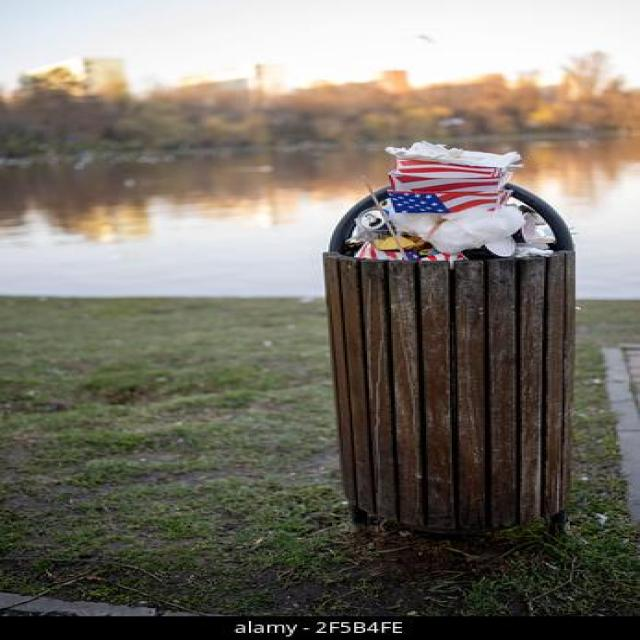trash: (306, 152, 548, 260)
